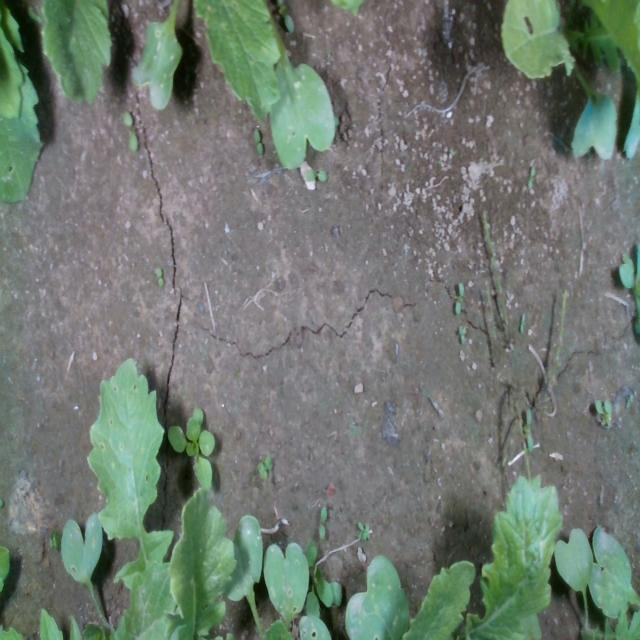weed: (122, 111, 138, 153), (254, 451, 274, 481), (305, 165, 329, 182), (317, 503, 327, 540), (454, 279, 464, 314), (252, 126, 262, 156), (458, 322, 468, 348), (527, 162, 535, 190), (154, 265, 164, 287), (519, 310, 526, 332)
